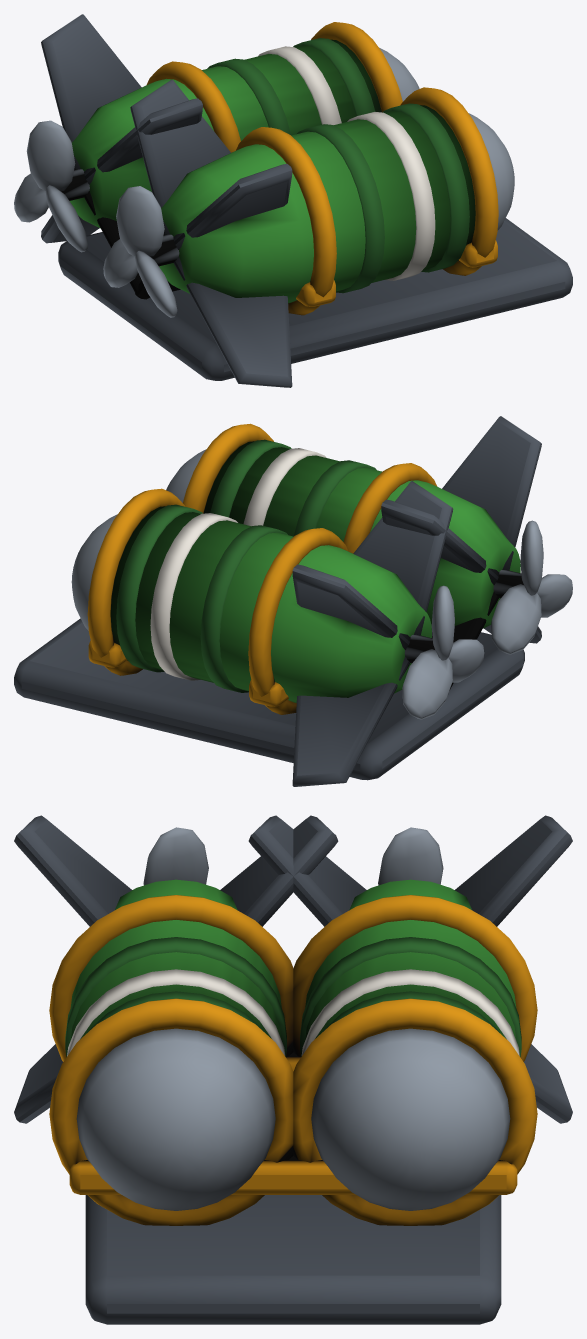
The model's file is part_torpedo.glb.
3 views of the same model, one above another, from view 1: azimuth 30°, elevation 25°; view 2: azimuth 150°, elevation 25°; view 3: azimuth 270°, elevation 25° (orthographic). The views are drawn at different scales.
Parts seen in each view (by area): view 1: torpedo_rack; view 2: torpedo_rack; view 3: torpedo_rack.
Boxes of the visible parts, box(x1,y1,x2,y2) form: torpedo_rack: box(14, 14, 572, 387); torpedo_rack: box(14, 416, 572, 786); torpedo_rack: box(14, 815, 572, 1324).
Bounding box in the file's own units: 1.19 × 0.6243 × 1.05.
